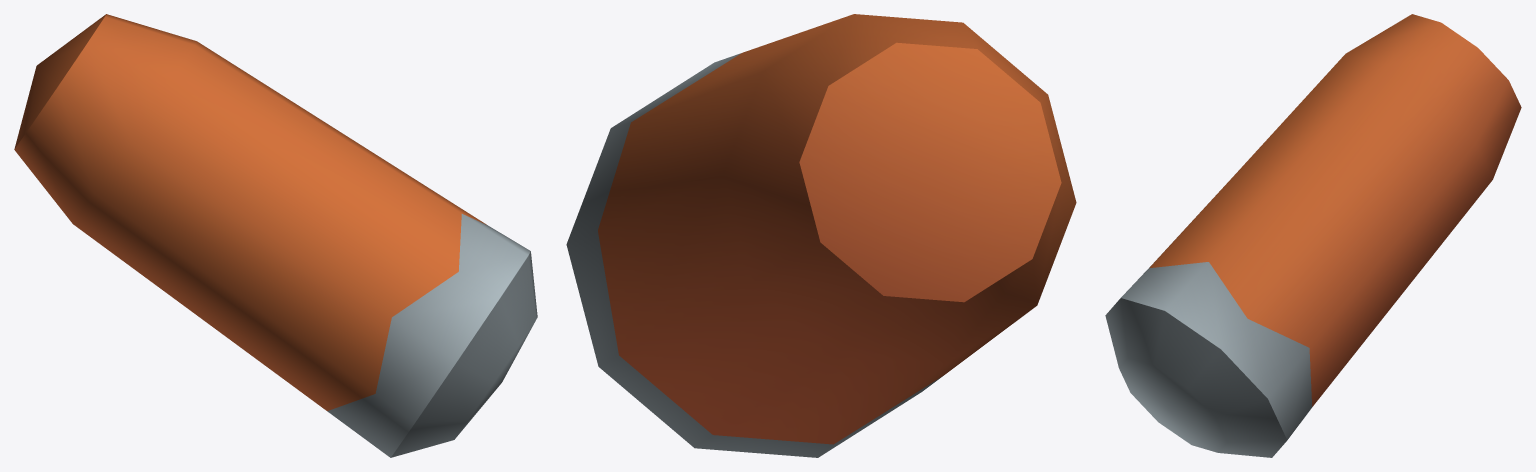
The model's file is ActionFigure_Head_B_Cigar.obj.
The picture shows the model from 3 angles, left to right: view 1: azimuth 30°, elevation 25°; view 2: azimuth 150°, elevation 25°; view 3: azimuth 270°, elevation 25°; orthographic projection. The views are drawn at different scales.
Visible parts, largest first — view 1: ActionFigure_Head_B_Cigar; view 2: ActionFigure_Head_B_Cigar; view 3: ActionFigure_Head_B_Cigar.
Part boxes in pixels (x1,y1,x2,y2): ActionFigure_Head_B_Cigar: [14, 14, 537, 457]; ActionFigure_Head_B_Cigar: [566, 14, 1076, 457]; ActionFigure_Head_B_Cigar: [1105, 14, 1521, 457].
Bounding box in the file's own units: 0.2077 × 0.1965 × 0.2126.
Materials: 1 (1 with a texture image).
